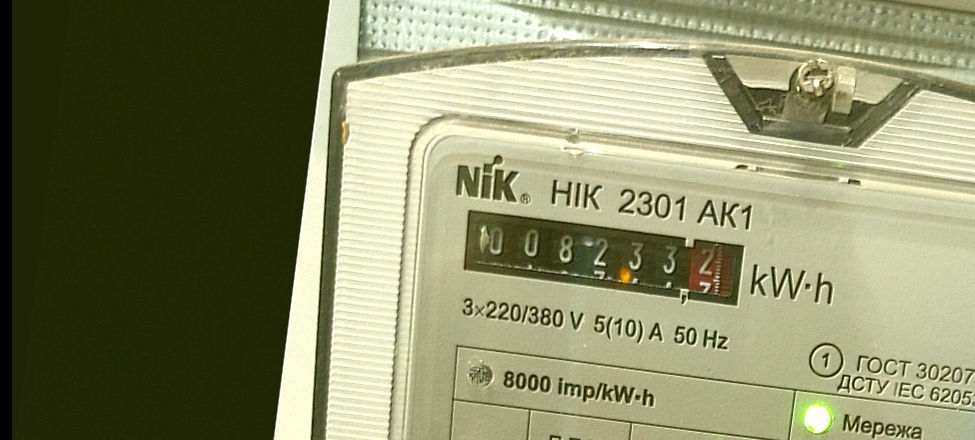0: (485, 223, 509, 257), (521, 226, 543, 260)
2: (590, 235, 614, 269), (698, 245, 719, 278)
3: (626, 239, 647, 272), (662, 242, 682, 276)
8: (556, 231, 578, 265)
screen: (450, 197, 759, 316)
